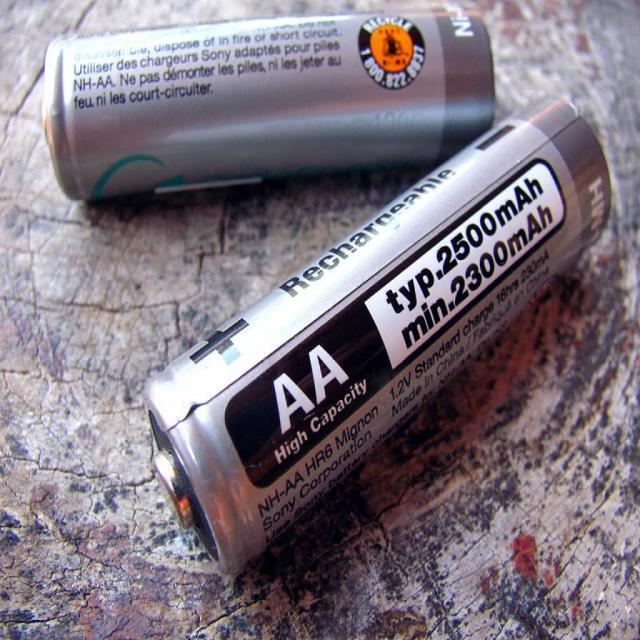AA: (123, 69, 639, 617), (32, 2, 513, 212)
